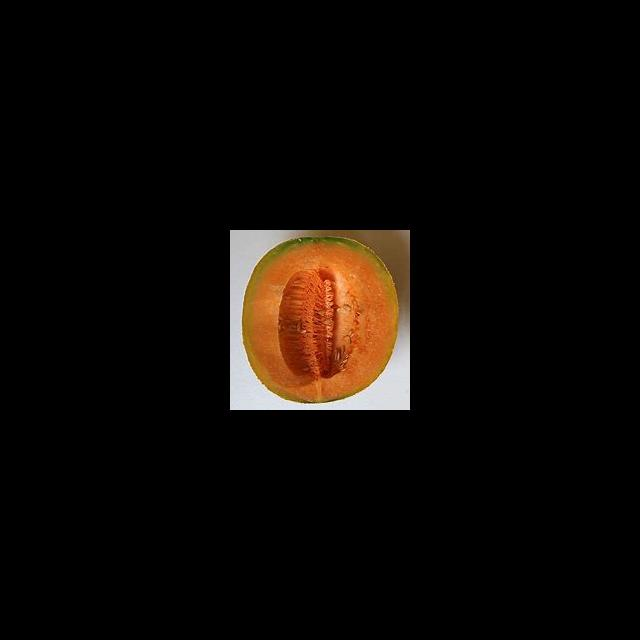Hami Melon: (241, 236, 401, 405)
